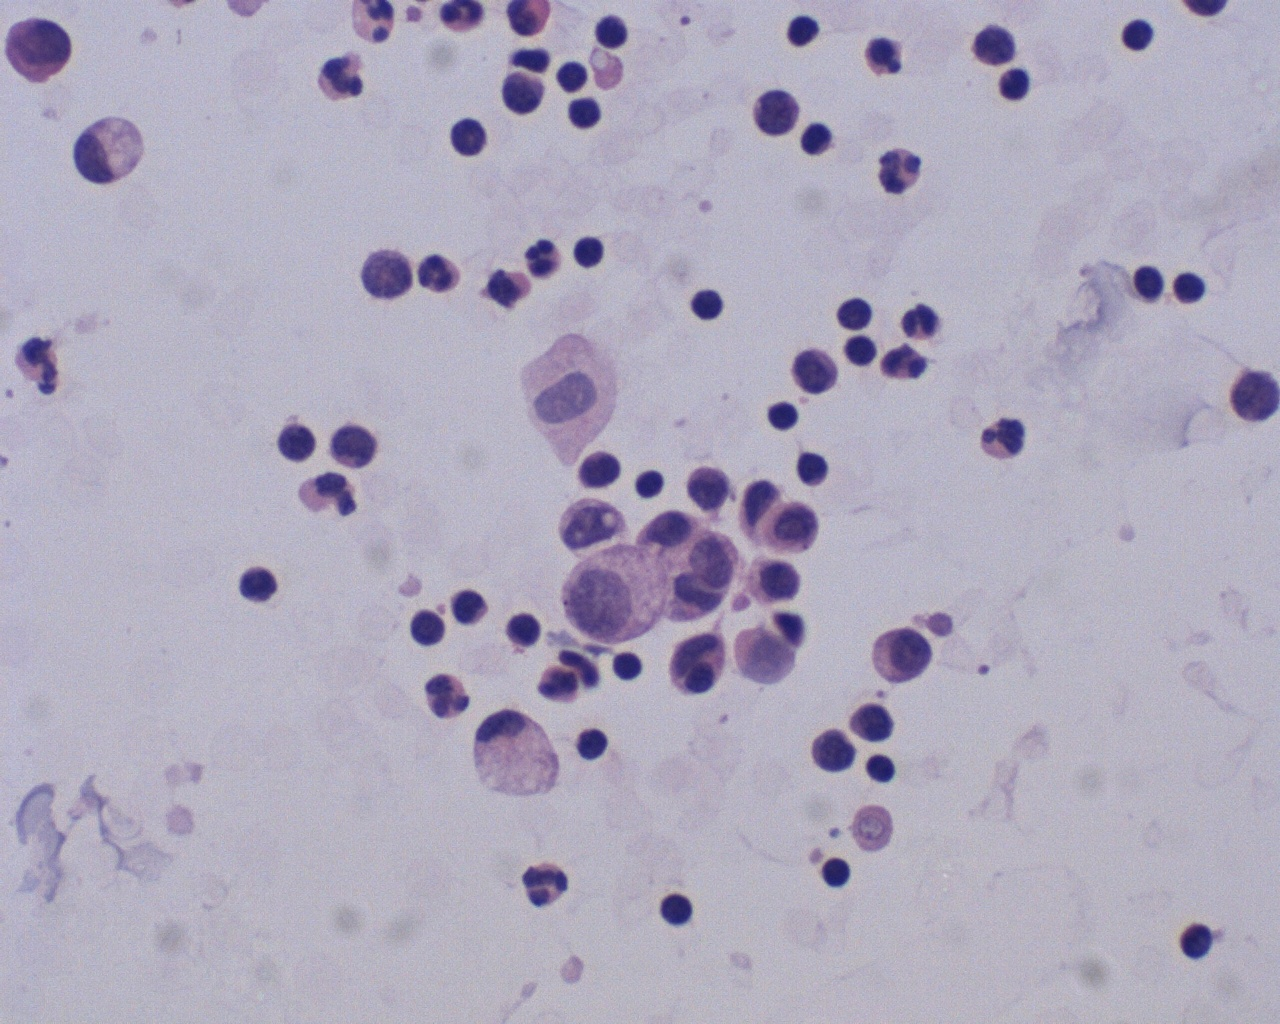ab: (3, 11, 84, 88), (867, 623, 940, 686)
histo: (470, 701, 560, 809), (61, 110, 153, 192)
lymph: (1170, 914, 1219, 968), (1165, 261, 1213, 311), (1111, 10, 1158, 54), (790, 447, 838, 490), (607, 647, 650, 694), (651, 888, 694, 933), (572, 725, 620, 765), (765, 388, 802, 438), (561, 92, 604, 136), (686, 283, 731, 325), (552, 52, 594, 97), (820, 852, 863, 892), (571, 230, 610, 271), (633, 462, 670, 504), (865, 750, 902, 791)
neutro: (506, 855, 581, 915), (874, 141, 931, 207), (416, 664, 478, 724), (974, 412, 1033, 466), (408, 245, 465, 299), (876, 339, 935, 387), (514, 230, 565, 283), (895, 298, 949, 342)
